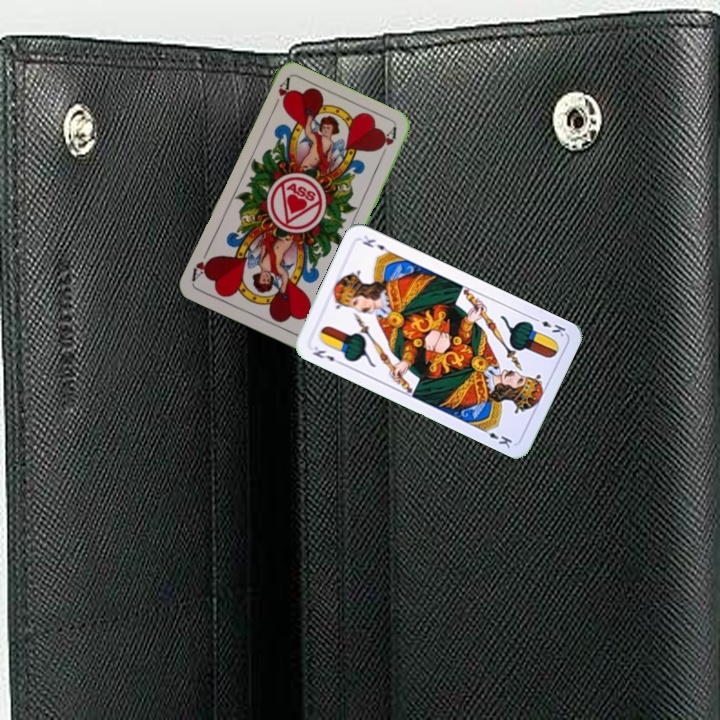EK: (529, 313, 568, 339), (309, 342, 345, 366)
HA: (268, 75, 293, 113)
